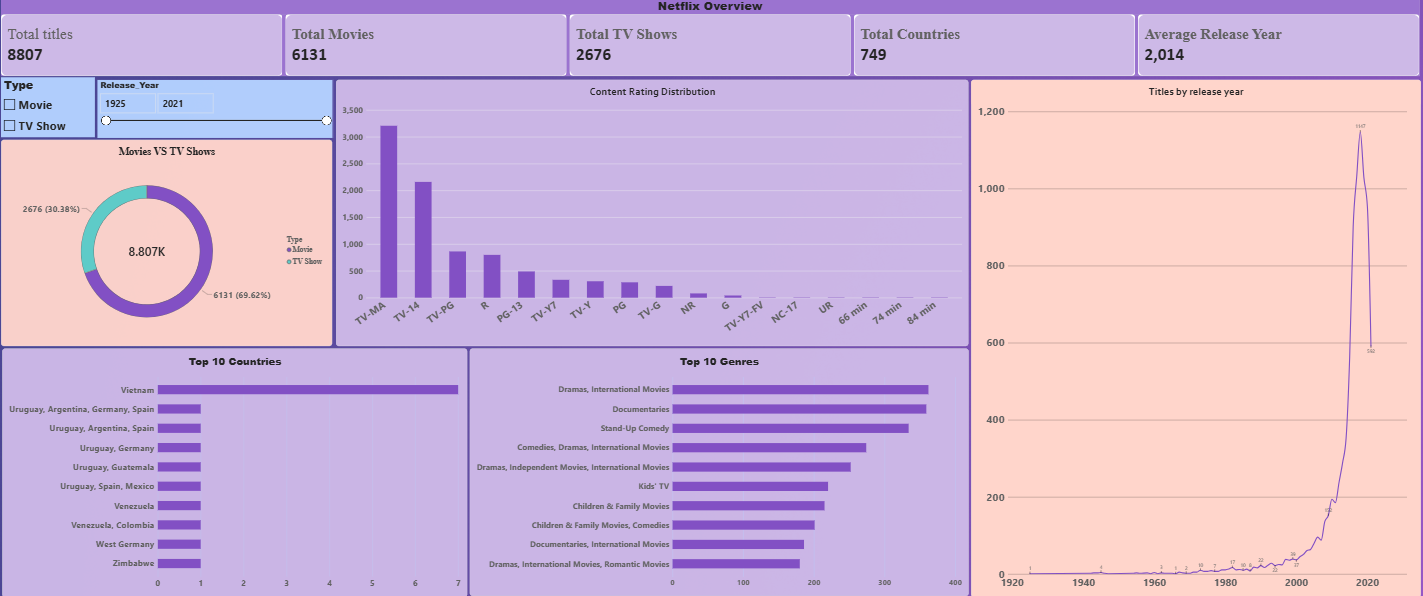

This screenshot's page, from the dashboard's own definition file:
{"tool":"powerbi","page":{"name":"Page 1","canvas":[3840,2160],"ordinal":0},"visuals":[{"type":"cardVisual","title":"Netflix Overview","fields":{"Data":["Date.Total titles","Date.Total Movies","Date.Total TV Shows","Date.Total Countries","Date.Average Release Year"]},"box":[26.7,16.7,3783.3,210],"z":0},{"type":"donutChart","title":"Movies VS TV Shows","fields":{"Category":["netflix_titles.Type"],"Y":["Count(netflix_titles.Show_ID)"]},"box":[26.7,396.7,883.3,550],"z":1000},{"type":"lineChart","title":"Titles by release year","fields":{"Category":["netflix_titles.Release_Year"],"Y":["Count(netflix_titles.Show_ID)"]},"box":[2613.3,236.7,1200,1380],"z":2000},{"type":"clusteredBarChart","title":"Top 10 Genres","fields":{"Category":["netflix_titles.Listed_In"],"Y":["Count(netflix_titles.Show_ID)"]},"box":[1276,954,1330,660],"z":3000},{"type":"barChart","title":"Top 10 Countries","fields":{"Category":["netflix_titles.Country"],"Y":["Count(netflix_titles.Show_ID)"]},"box":[30,953.3,1240,663.3],"z":4000},{"type":"columnChart","title":"Content Rating Distribution","fields":{"Category":["netflix_titles.Rating"],"Y":["Count(netflix_titles.Show_ID)"]},"box":[920,236.7,1686.7,710],"z":5000},{"type":"slicer","fields":{"Values":["netflix_titles.Type"]},"box":[26.7,230,250,160],"z":5001},{"type":"slicer","fields":{"Values":["netflix_titles.Release_Year"]},"box":[282.5,235,627.5,155],"z":5002}]}

Visuals, with their boxes on the page's 3840x2160 design canvas (x1, y1, x2, y2). These are canvas units, not pixel positions in the 1423x596 screenshot, which may show the page scaled, cropped or inside an application window:
"Netflix Overview" cardVisual: 27:17:3810:227
"Movies VS TV Shows" donutChart: 27:397:910:947
"Titles by release year" lineChart: 2613:237:3813:1617
"Top 10 Genres" clusteredBarChart: 1276:954:2606:1614
"Top 10 Countries" barChart: 30:953:1270:1617
"Content Rating Distribution" columnChart: 920:237:2607:947
slicer - netflix_titles.Type: 27:230:277:390
slicer - netflix_titles.Release_Year: 282:235:910:390
